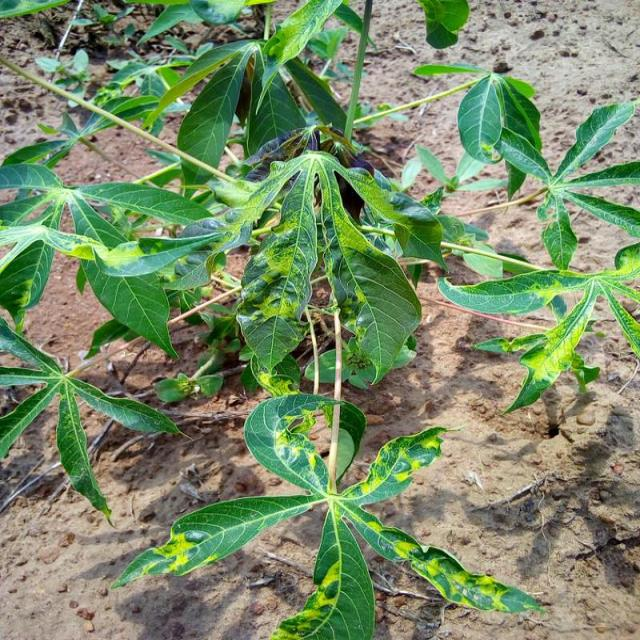cassava leaf: (110, 390, 546, 638)
